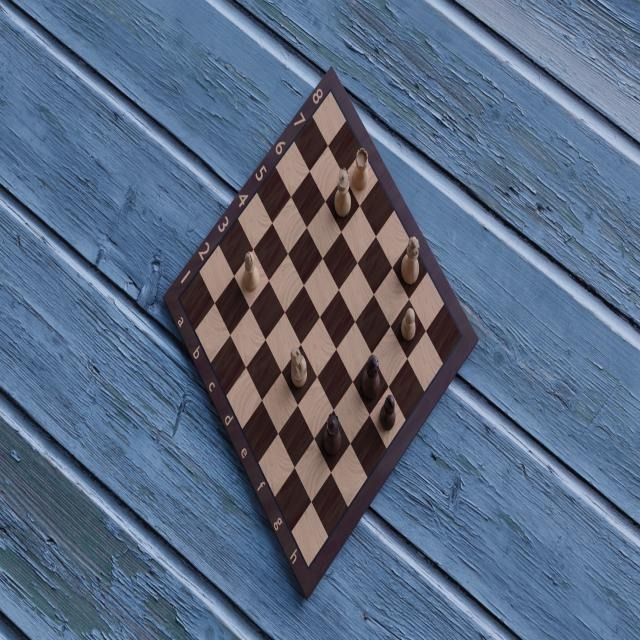black-bishop: (378, 394, 397, 434)
black-king: (360, 354, 382, 402)
black-queen: (322, 410, 342, 458)
white-bishop: (241, 250, 261, 294)
white-king: (399, 235, 420, 288)
white-knight: (289, 343, 308, 390)
white-pawn: (399, 306, 417, 345)
white-queen: (333, 166, 353, 221)
white-rook: (351, 146, 370, 194)
